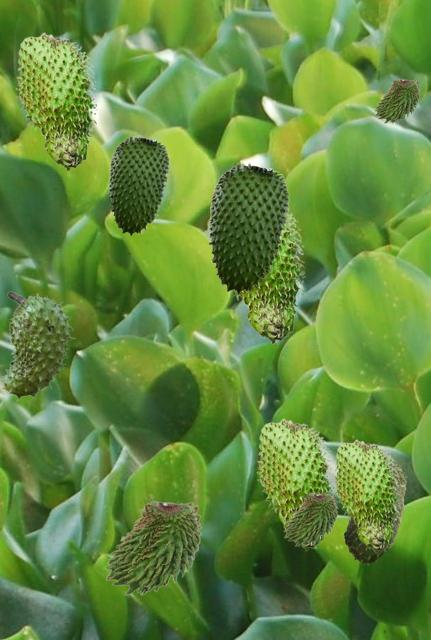guyabano: (15, 32, 97, 170), (208, 162, 288, 294), (256, 418, 334, 550), (228, 213, 305, 343), (104, 497, 201, 594), (0, 291, 75, 400), (333, 439, 400, 552), (343, 462, 406, 564), (108, 135, 168, 235), (283, 491, 337, 545), (374, 77, 419, 122)
